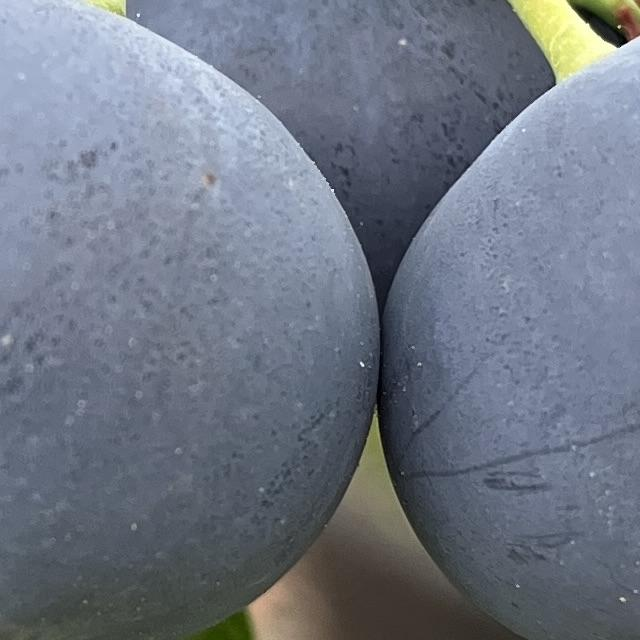Blueberries: (0, 0, 380, 640), (373, 0, 640, 640)
